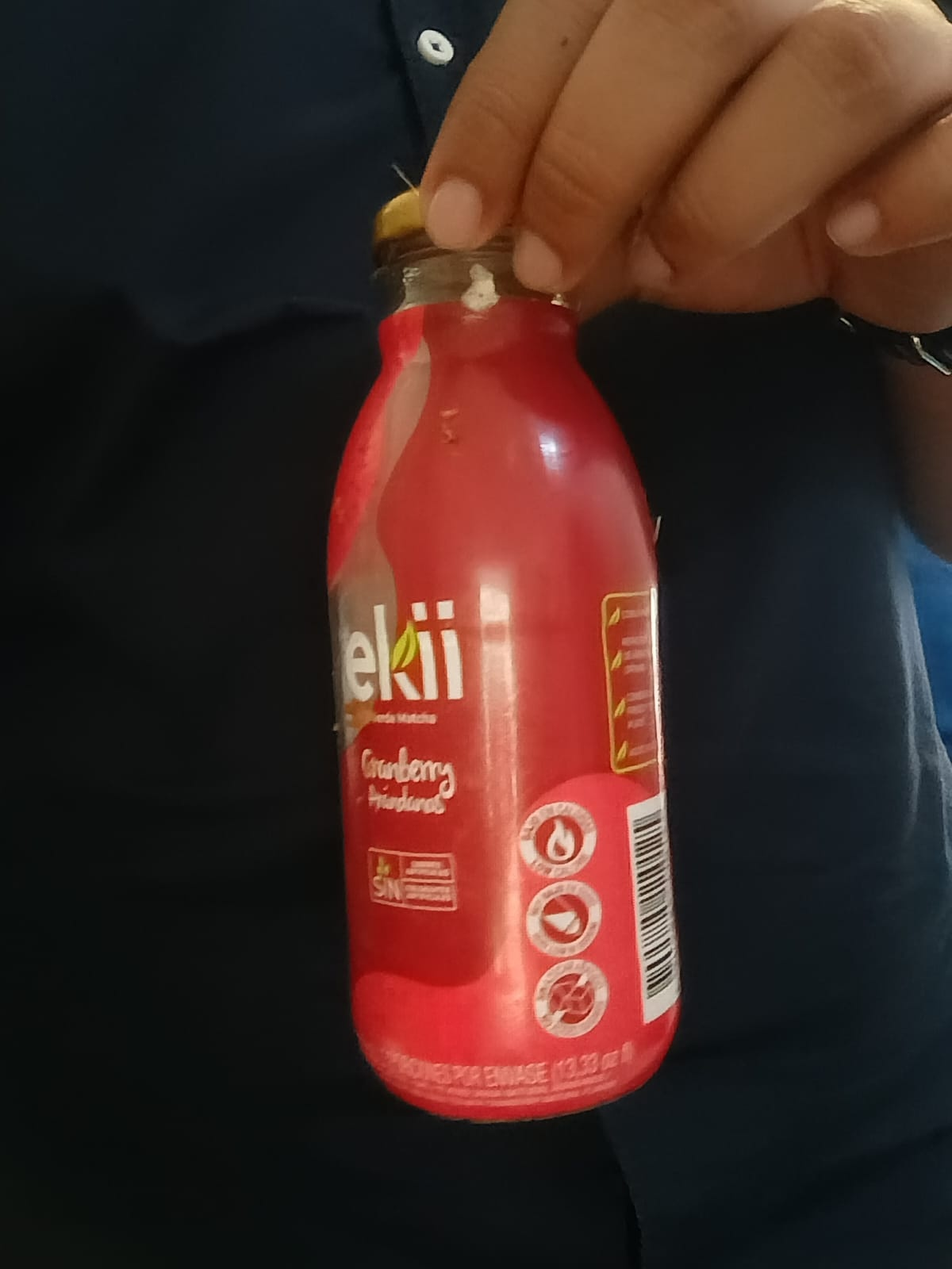Vidrio: (326, 239, 685, 1122)
